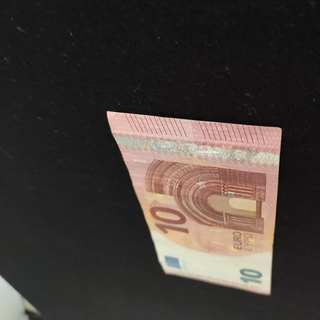10EUROFront: (105, 109, 282, 296)
